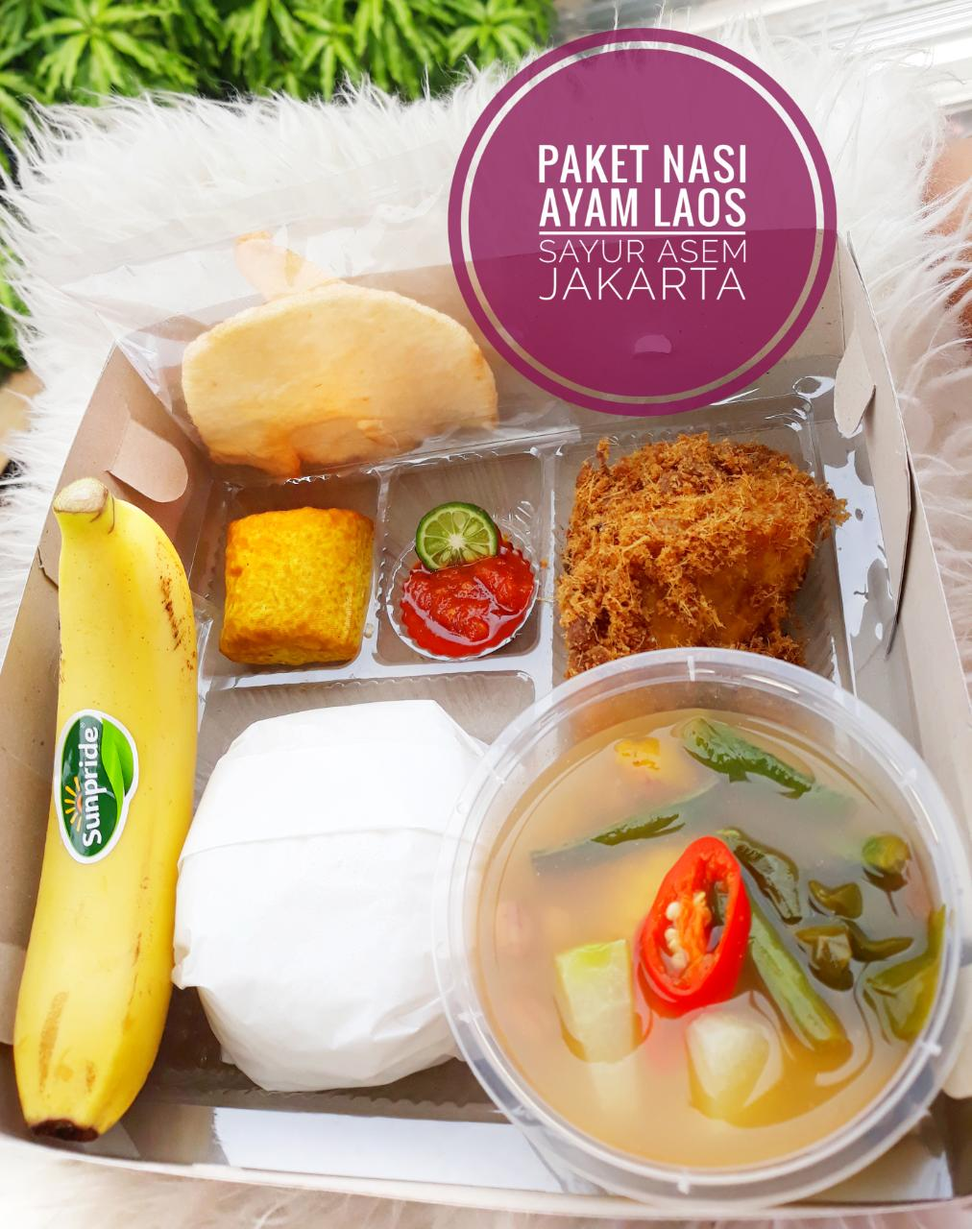buah_sayur_lainnya: (560, 761, 885, 1106), (65, 518, 154, 1056)
daging: (594, 467, 778, 595)
kacang_legume: (232, 524, 356, 627)
makanan_berpati: (225, 743, 398, 981), (207, 343, 456, 429)
